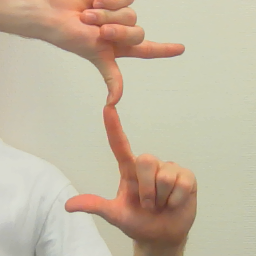Z: (36, 1, 202, 239)
